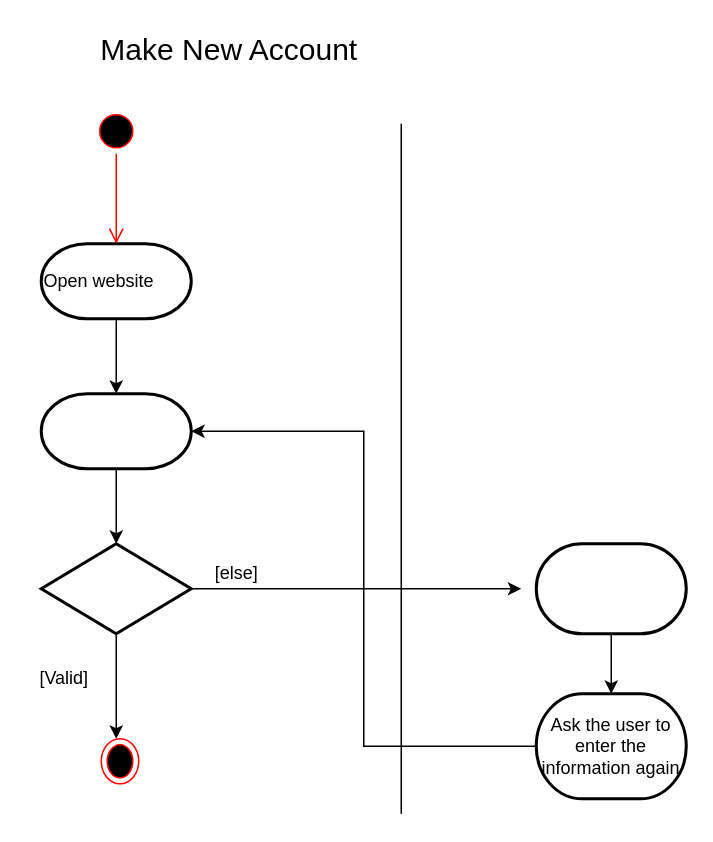
Some shapes in this 713 by 842 pixel diagram are drawn without their labels. Here are the shapes that lost their labels. From the top down, the box of each, then its label:
(39, 392, 192, 470): Enter New account information
(534, 542, 687, 634): Show the user the invalid data
